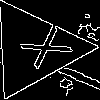X: (10, 23, 74, 77)
